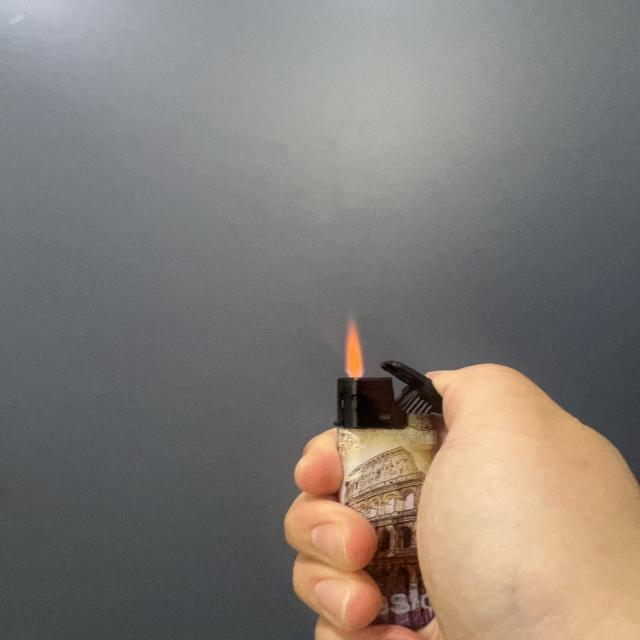fire: (343, 319, 367, 378)
